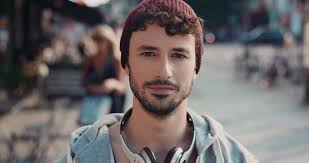white_male: (120, 20, 205, 101)
